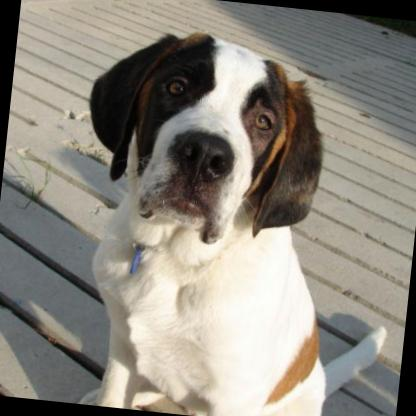Saint_Bernard: (51, 15, 415, 416)
